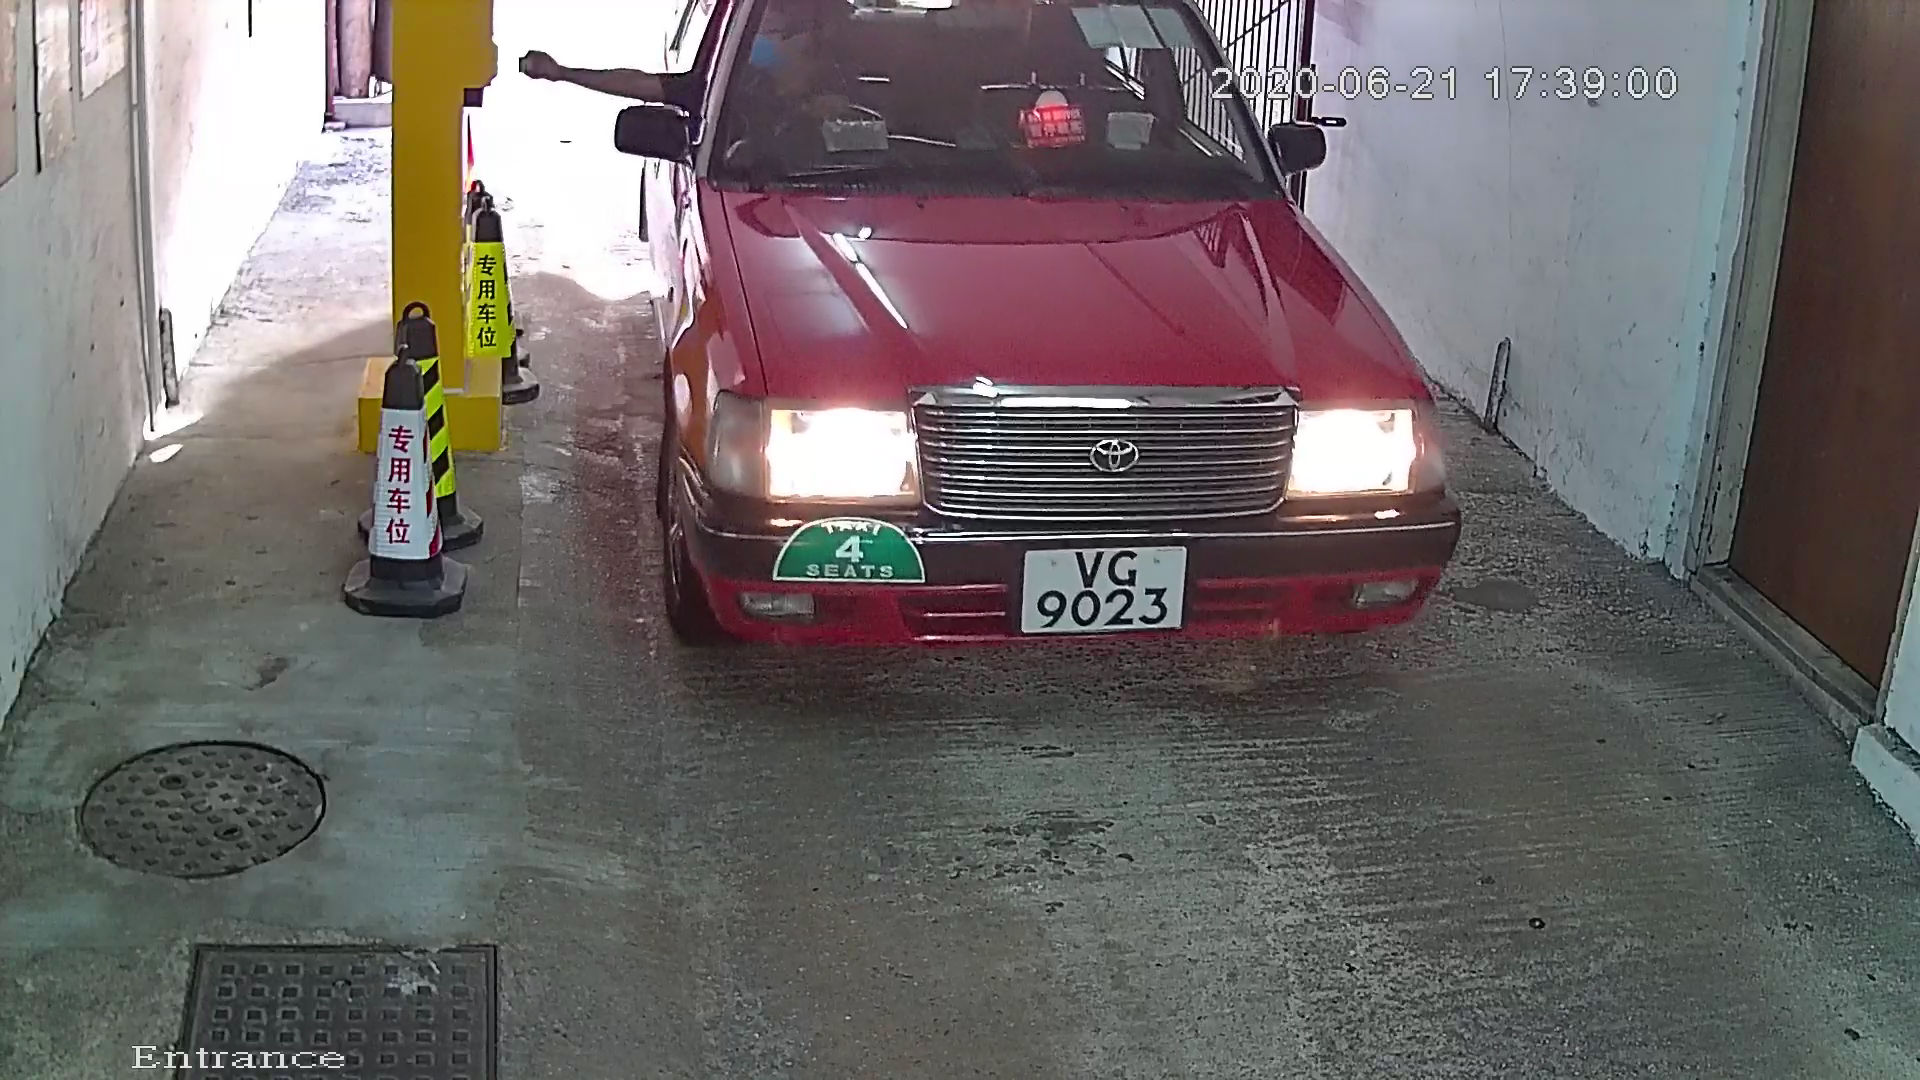taxi: (575, 1, 1495, 773)
taxi_mark: (735, 489, 964, 611)
